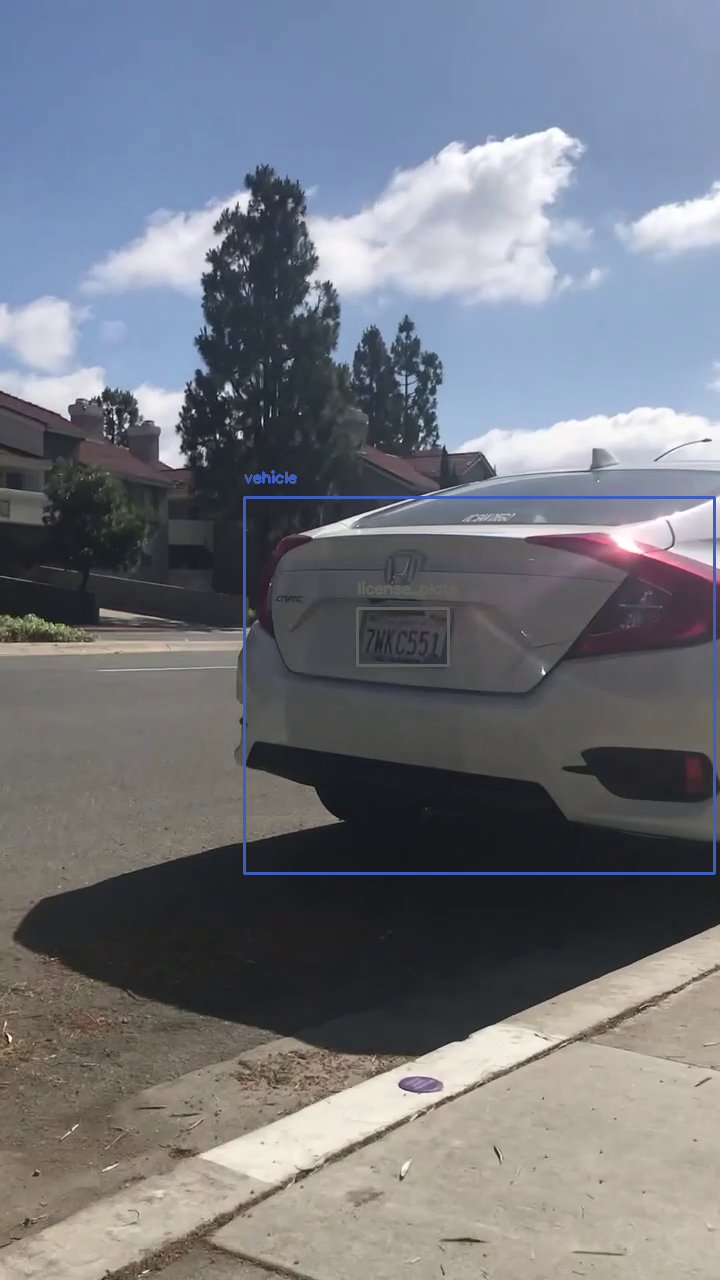license_plate: (357, 608, 448, 665)
vehicle: (244, 497, 714, 873)
